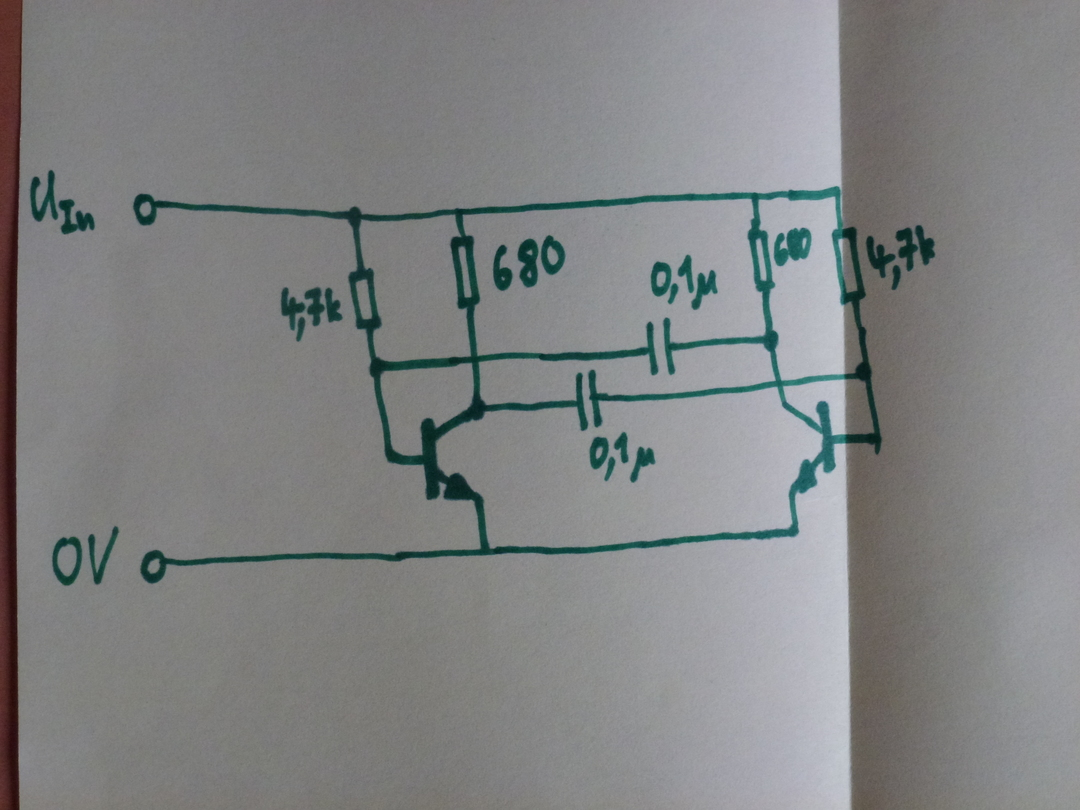capacitor.unpolarized: (641, 316, 679, 379), (573, 368, 606, 432)
crossover: (768, 375, 789, 391), (465, 351, 485, 366)
junction: (759, 328, 781, 353), (853, 360, 875, 384), (367, 356, 389, 379), (467, 397, 488, 421), (346, 205, 365, 230), (867, 429, 885, 455), (785, 521, 803, 541), (827, 182, 845, 202), (475, 544, 496, 561), (381, 448, 398, 466), (746, 188, 763, 204), (451, 205, 467, 220)
resistor: (830, 225, 867, 306), (449, 232, 482, 311), (347, 266, 383, 332), (746, 224, 776, 293)
terminal: (138, 548, 171, 584), (132, 191, 161, 227)
text: (865, 223, 937, 290), (28, 167, 97, 235), (491, 233, 568, 293), (50, 524, 121, 587), (649, 253, 720, 311), (279, 285, 344, 342), (588, 431, 658, 483), (773, 227, 813, 267)
transistor: (420, 411, 483, 503), (781, 400, 838, 495)
